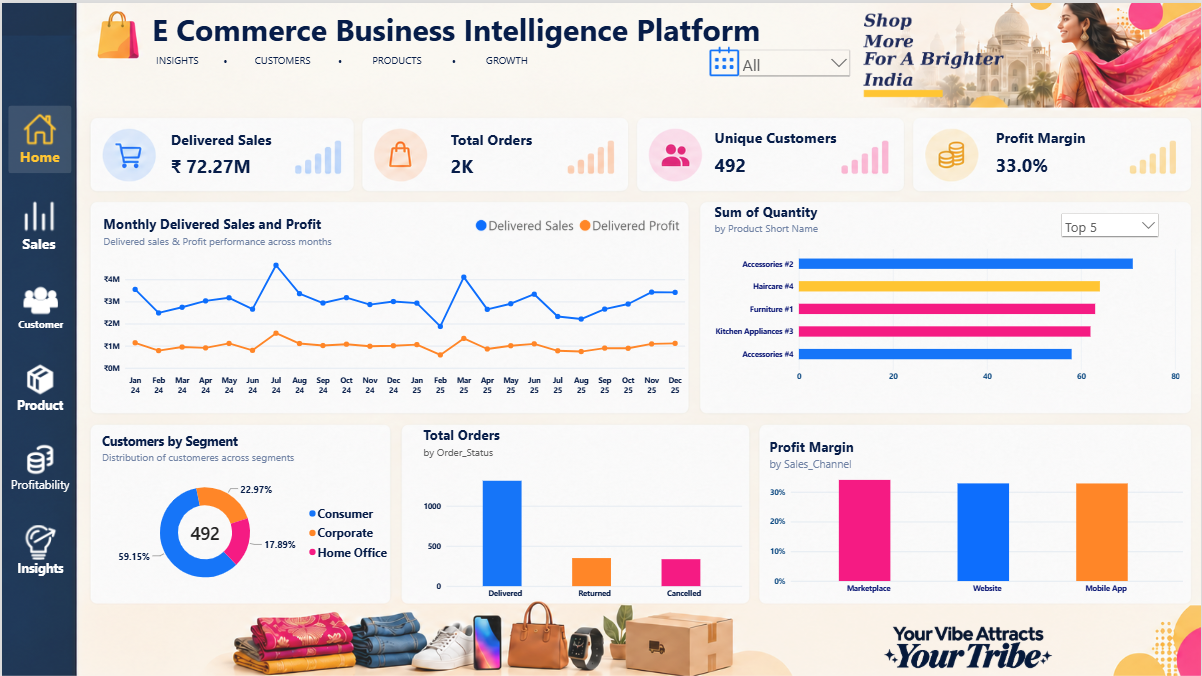

Layout of this report page (visuals, bound fields, positions):
{"tool":"powerbi","page":{"name":"Home","canvas":[1920,1080],"ordinal":0},"visuals":[{"type":"actionButton","box":[9,164.7,101.3,108.6],"z":0},{"type":"actionButton","box":[8.9,433.3,102.2,106.7],"z":1000},{"type":"actionButton","box":[8.9,562.2,102.2,108.9],"z":2000},{"type":"actionButton","box":[0,685,120,115],"z":3000},{"type":"actionButton","box":[8.8,821.2,102.5,111.2],"z":4000},{"type":"actionButton","box":[8.9,304.4,102.2,106.7],"z":5000},{"type":"textbox","box":[240,8,1090,114],"z":6000},{"type":"image","box":[1377.8,982.2,331.1,97.8],"z":7000},{"type":"image","box":[1377.8,8.9,224.4,137.8],"z":8000},{"type":"image","box":[1330,76,224.4,137.8],"z":9000},{"type":"cardVisual","fields":{"Data":["1_Sales_Analytics.Delivered Sales"]},"box":[253.2,187.3,212,107],"z":10000},{"type":"cardVisual","fields":{"Data":["1_Sales_Analytics.Total Orders"]},"box":[701.9,187.3,212,107],"z":11000},{"type":"cardVisual","fields":{"Data":["2_Customer_Analytics.Unique Customers"]},"box":[1124,186,231.6,106.8],"z":12000},{"type":"cardVisual","fields":{"Data":["4_Profitability.Delivered Profit Margin"]},"box":[1574,186,230,106],"z":13000},{"type":"lineChart","title":"Monthly Delivered Sales and Profit","fields":{"Category":["4_Profitability.Month Year"],"Y":["1_Sales_Analytics.Delivered Sales","4_Profitability.Delivered Profit"]},"box":[146,324,964,322],"z":14000},{"type":"clusteredBarChart","fields":{"Category":["3_Product_Analytics.Product Short Name"],"Y":["Sum(3_Product_Analytics.Quantity)"]},"box":[1124,304,776,322],"z":15000},{"type":"slicer","fields":{"Values":["Top Products.Show"]},"box":[1690,332,166,46],"z":16000},{"type":"donutChart","title":"Customers by Segment","fields":{"Category":["2_Customer_Analytics.Customer_Segment"],"Y":["2_Customer_Analytics.Unique Customers"]},"box":[144.8,671.4,497.7,285.9],"z":17000},{"type":"clusteredColumnChart","fields":{"Category":["1_Sales_Analytics.Order_Status"],"Y":["1_Sales_Analytics.Total Orders"]},"box":[658,662,542,312],"z":18000},{"type":"clusteredColumnChart","fields":{"Category":["4_Profitability.Sales_Channel"],"Y":["4_Profitability.Profit Margin"]},"box":[1212.7,679.1,693.6,285.5],"z":19000},{"type":"image","box":[742,332,350,46],"z":20000},{"type":"slicer","fields":{"Values":["1_Sales_Analytics.Order_Date.Variation.Date Hierarchy.Year"]},"box":[1174.8,70.9,188.6,54.3],"z":20001},{"type":"image","box":[1123.2,70.8,62.9,47.4],"z":20002}]}

Visuals, with their boxes on the page's 1920x1080 design canvas (x1, y1, x2, y2). These are canvas units, not pixel positions in the 1202x676 screenshot, which may show the page scaled, cropped or inside an application window:
actionButton: 9 165 110 273
actionButton: 9 433 111 540
actionButton: 9 562 111 671
actionButton: 0 685 120 800
actionButton: 9 821 111 932
actionButton: 9 304 111 411
textbox: 240 8 1330 122
image: 1378 982 1709 1080
image: 1378 9 1602 147
image: 1330 76 1554 214
cardVisual - 1_Sales_Analytics.Delivered Sales: 253 187 465 294
cardVisual - 1_Sales_Analytics.Total Orders: 702 187 914 294
cardVisual - 2_Customer_Analytics.Unique Customers: 1124 186 1356 293
cardVisual - 4_Profitability.Delivered Profit Margin: 1574 186 1804 292
"Monthly Delivered Sales and Profit" lineChart: 146 324 1110 646
clusteredBarChart - 3_Product_Analytics.Product Short Name x Sum(3_Product_Analytics.Quantity): 1124 304 1900 626
slicer - Top Products.Show: 1690 332 1856 378
"Customers by Segment" donutChart: 145 671 642 957
clusteredColumnChart - 1_Sales_Analytics.Order_Status x 1_Sales_Analytics.Total Orders: 658 662 1200 974
clusteredColumnChart - 4_Profitability.Sales_Channel x 4_Profitability.Profit Margin: 1213 679 1906 965
image: 742 332 1092 378
slicer - 1_Sales_Analytics.Order_Date.Variation.Date Hierarchy.Year: 1175 71 1363 125
image: 1123 71 1186 118
